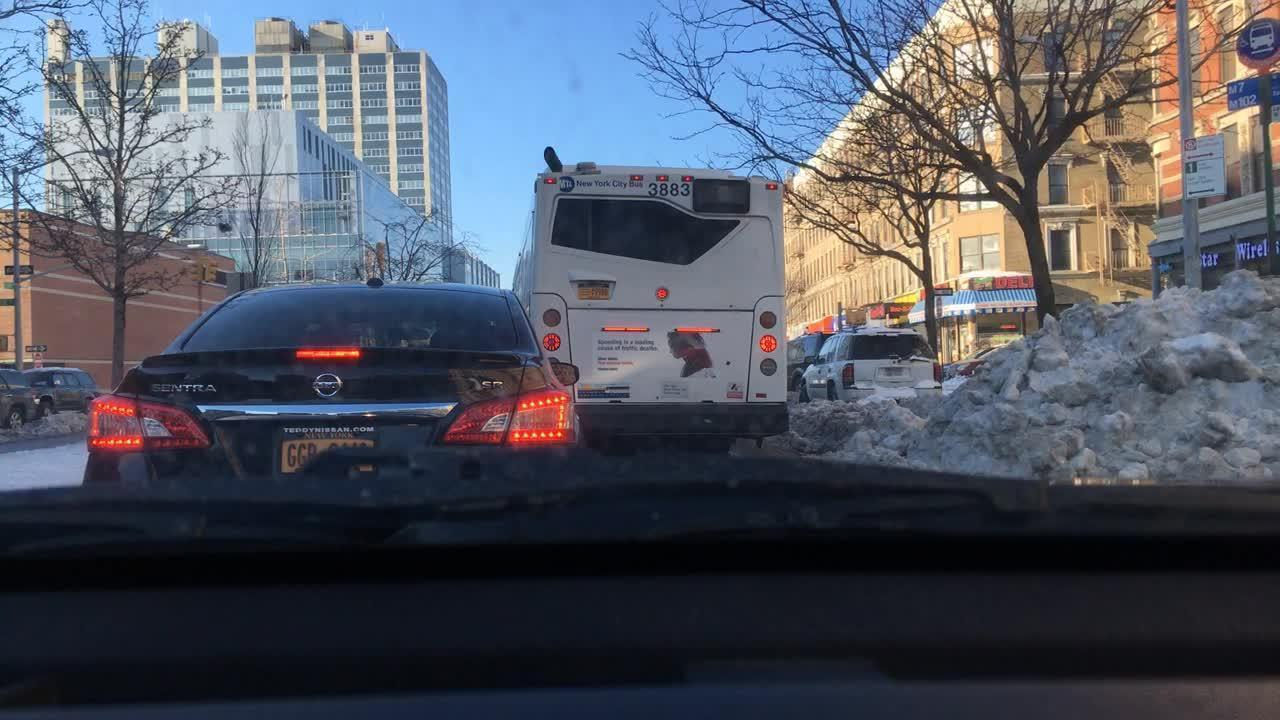Nissan: (302, 370, 350, 406)
